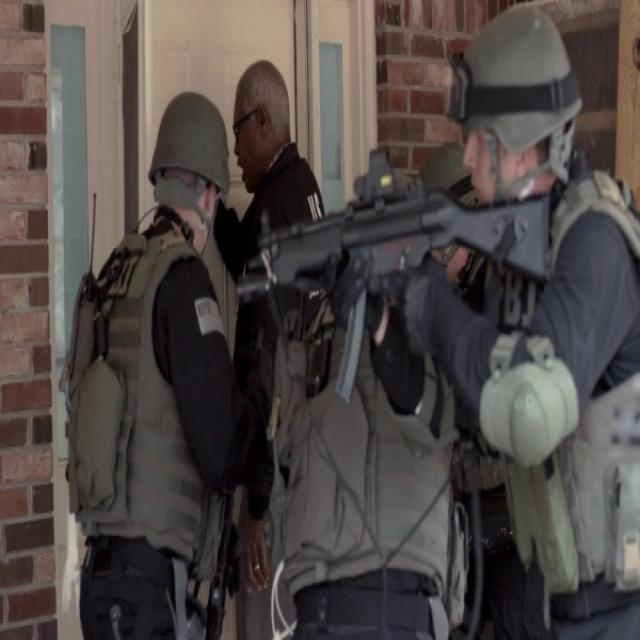rifle: (229, 141, 556, 411)
